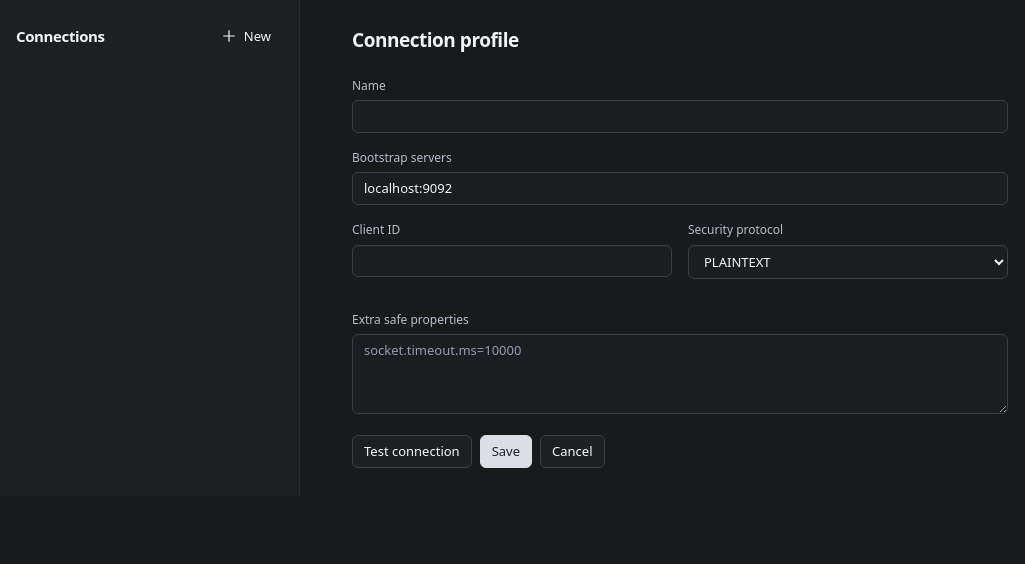
Test: Connections › keeps the form editable and shows backend errors
The image size is (1025, 564).
Expected: the heading "Connection profile" is shown, [352,27,519,53]
Step 1. Type "Local" into the field labelled "Name" → (680, 116), box [352,100,1008,133]
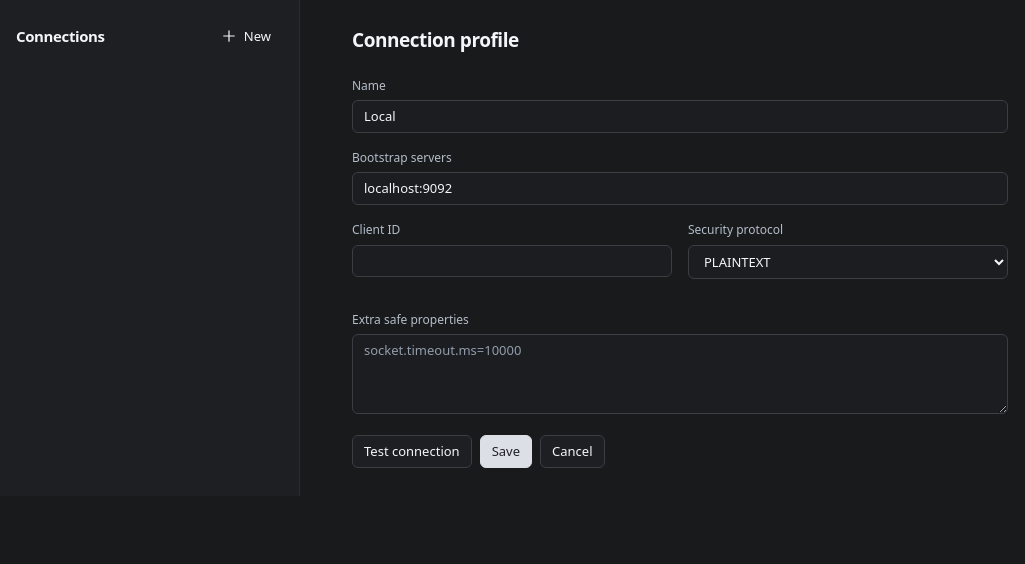
Step 2. Click the button "Test connection" → (412, 451), box [352,435,472,468]
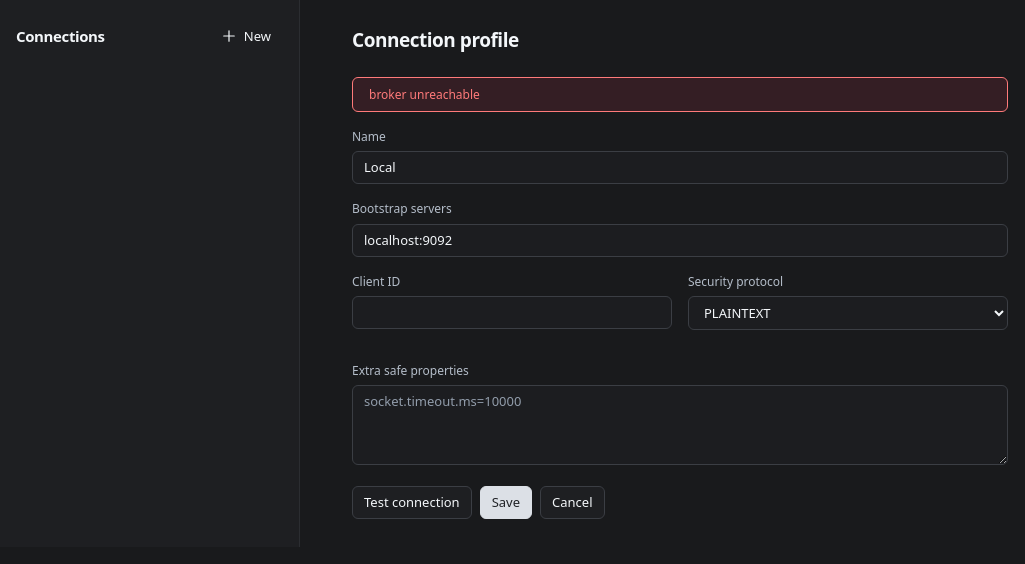
Now the message reads "broker unreachable", box [369,86,480,103]
